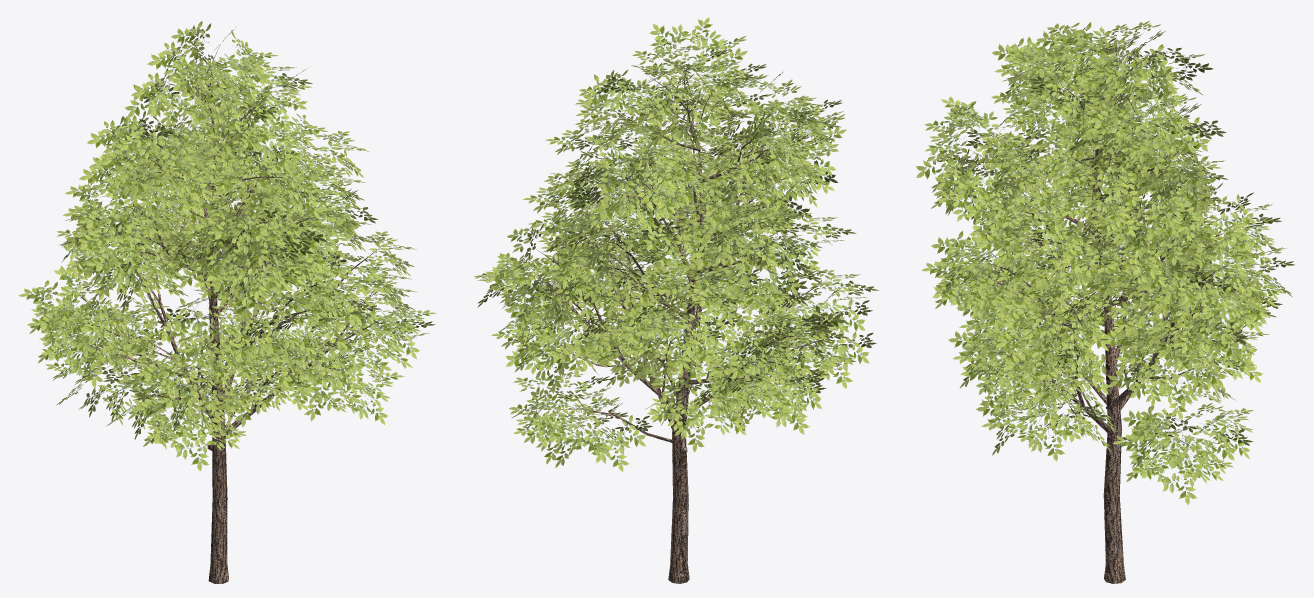
The model's file is Tree.dae.
3 views of the same model, side by side, from view 1: azimuth 30°, elevation 25°; view 2: azimuth 150°, elevation 25°; view 3: azimuth 270°, elevation 25° (orthographic). The views are drawn at different scales.
Visible parts, largest first — view 1: trunk; view 2: trunk; view 3: trunk.
Boxes of the visible parts, x1,y1,x2,y2 form: trunk: (207,45,228,583); trunk: (649,76,707,583); trunk: (1091,59,1144,583).
Bounding box in the file's own units: 168 × 158 × 247.
Materials: 3 (2 with a texture image).
